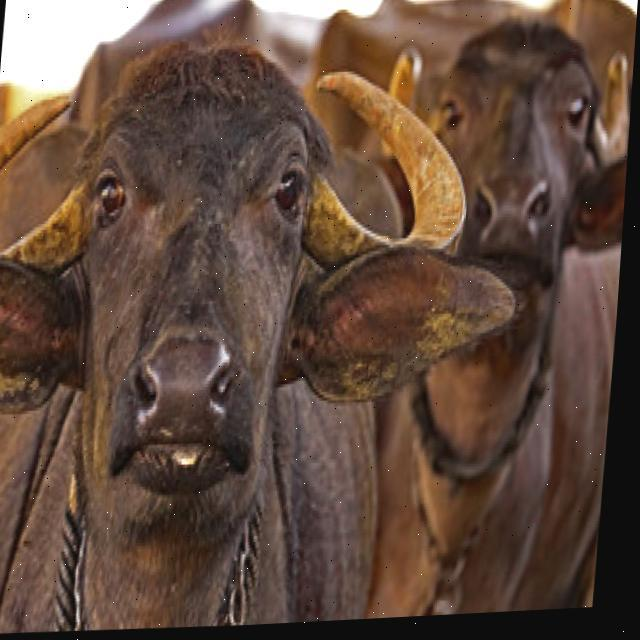Buffalo: (0, 31, 537, 613)
